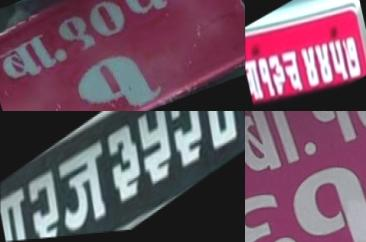0: (84, 0, 127, 42)
1: (281, 152, 366, 242), (68, 41, 166, 111), (295, 111, 361, 157), (255, 50, 276, 104)
2: (24, 163, 63, 240), (164, 111, 206, 175)
3: (103, 117, 145, 214), (267, 49, 288, 99)
4: (312, 37, 336, 92), (298, 42, 322, 95)
5: (134, 111, 176, 195), (327, 36, 350, 88)
6: (245, 177, 312, 242)
7: (340, 33, 363, 84)
8: (198, 111, 241, 160)
9: (53, 10, 99, 58)
ba: (245, 111, 308, 187), (0, 31, 57, 87), (1, 180, 34, 242), (245, 52, 265, 105)
cha: (280, 44, 305, 97)
ja: (53, 133, 112, 238)
pa: (116, 0, 167, 22)
